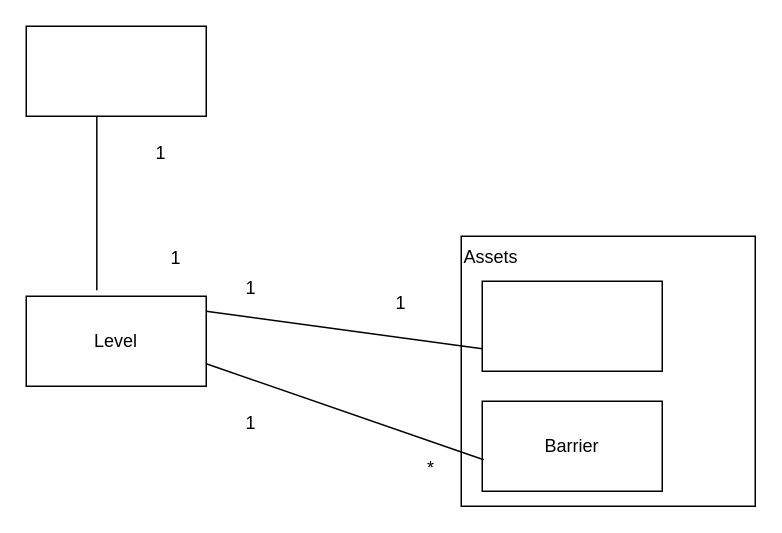
This 782x533 diagram has some shape labels left out. The centre of each missing label's shape, as x and y in pixels:
"Main" goes at pixel 115 70.
"Robot" goes at pixel 571 325.
